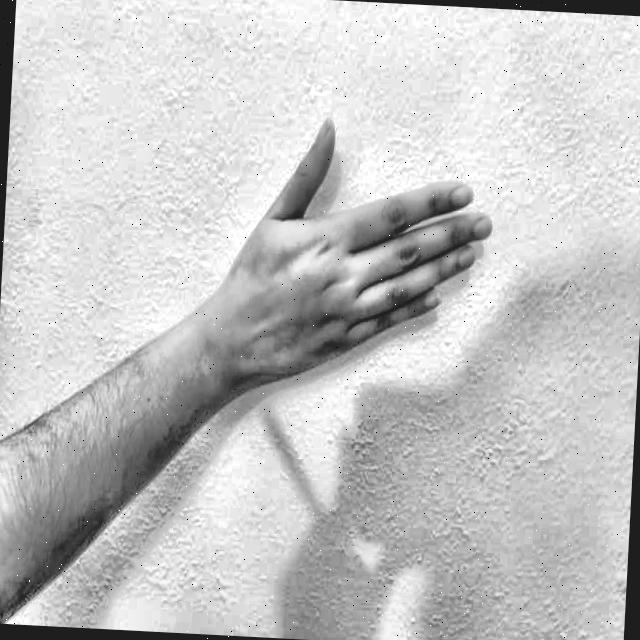Aa: (203, 68, 522, 454)
